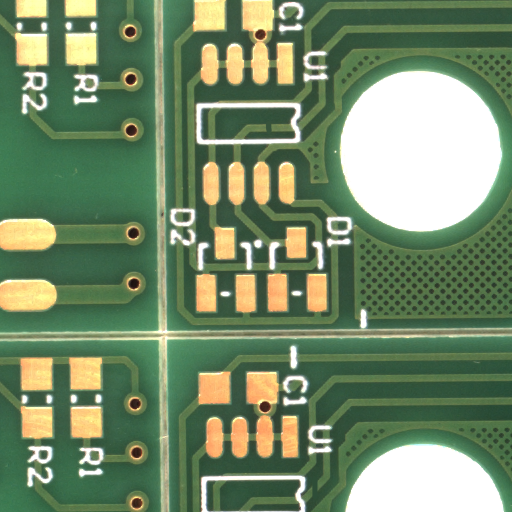Open_circuit: (314, 490, 323, 511), (267, 127, 279, 138)
